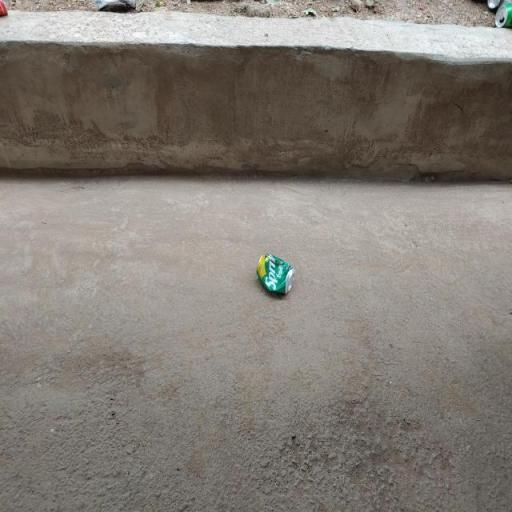metal: (244, 215, 300, 314)
